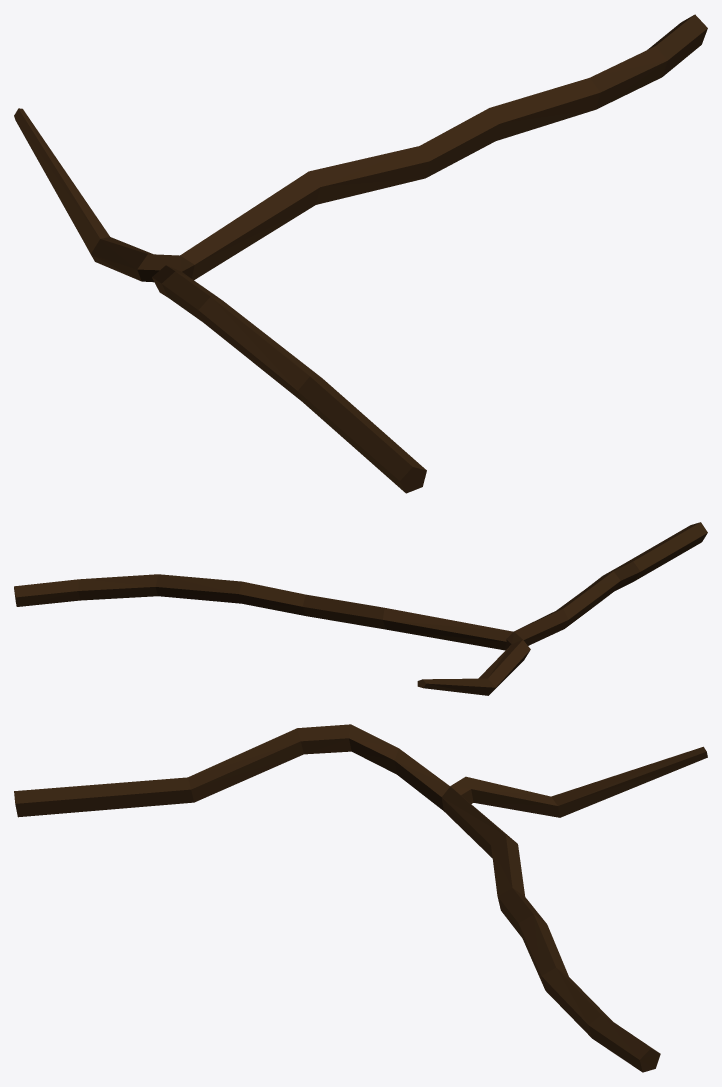
Rendered from Galaz_9.fbx.
3 renders of one model, top to bottom at view 1: azimuth 30°, elevation 25°; view 2: azimuth 150°, elevation 25°; view 3: azimuth 270°, elevation 25°, orthographic. The views are drawn at different scales.
Visible parts, largest first — view 1: Galaz_9_LOD0; view 2: Galaz_9_LOD0; view 3: Galaz_9_LOD0.
Boxes of the visible parts, bbox=[...] form: Galaz_9_LOD0: bbox=[14, 14, 707, 493]; Galaz_9_LOD0: bbox=[14, 522, 707, 695]; Galaz_9_LOD0: bbox=[14, 724, 707, 1072].
Size of what is drawn, in the model's own units: 5028 by 592 by 4986.
